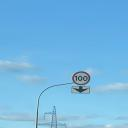speed_limit_100: (72, 70, 92, 86)
